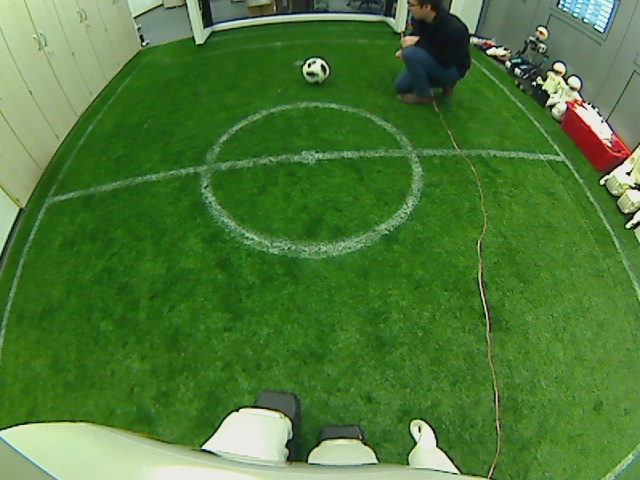ball: (300, 55, 332, 85)
